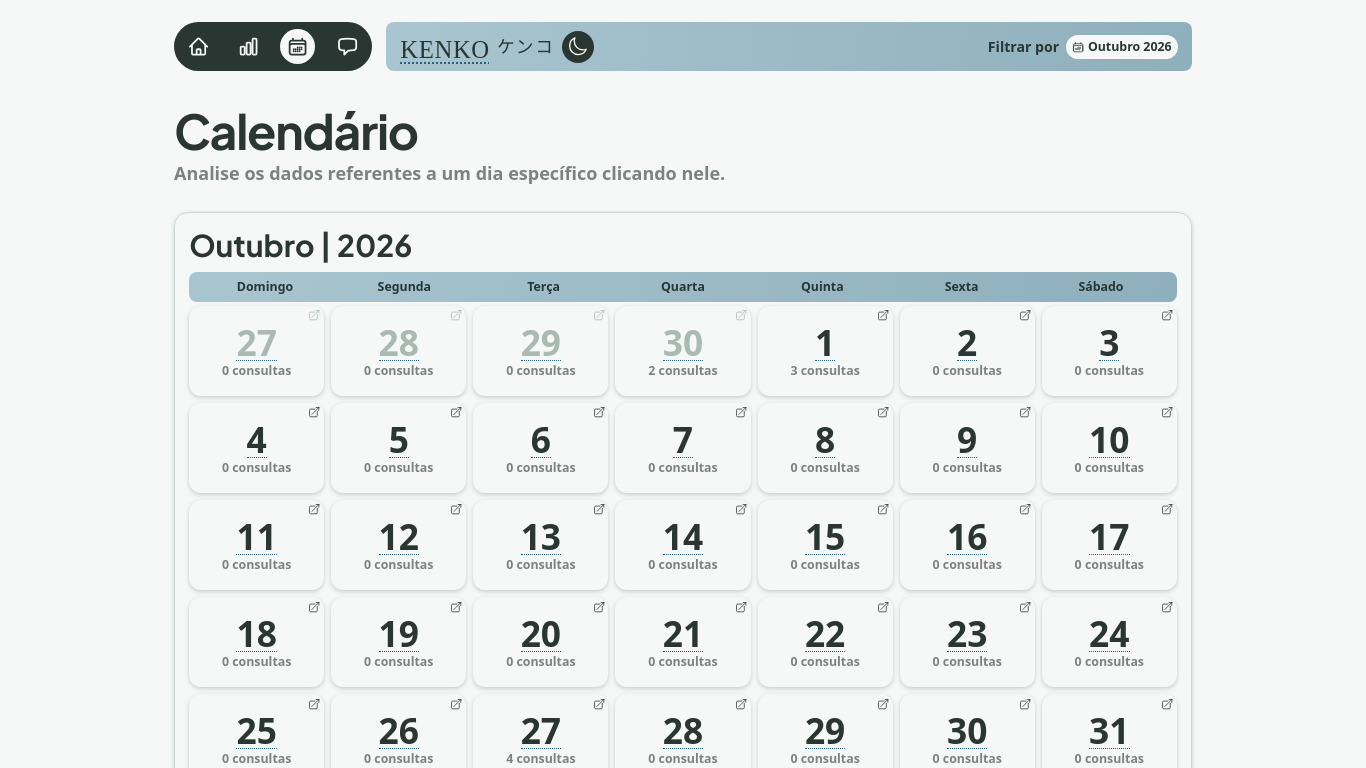
abre a página Dia com a data adjacente selecionada
Click the link with aria-label "2026-09-27, 0 consultas". click: coordinates (257, 351)
box: [189, 306, 324, 396]
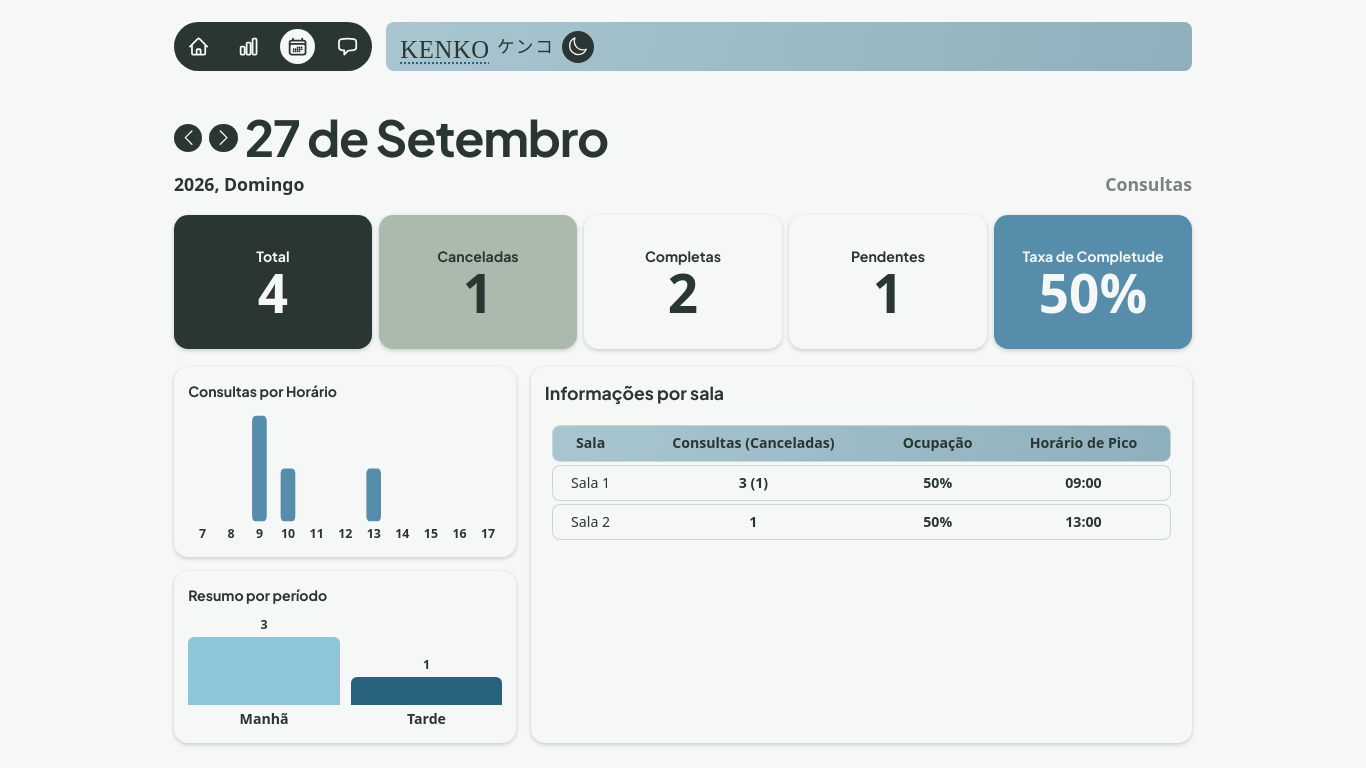
Result: the heading "27 de Setembro" is shown at [245, 107, 608, 169]
Result: the text "2026, Domingo" is shown at [174, 172, 304, 197]
